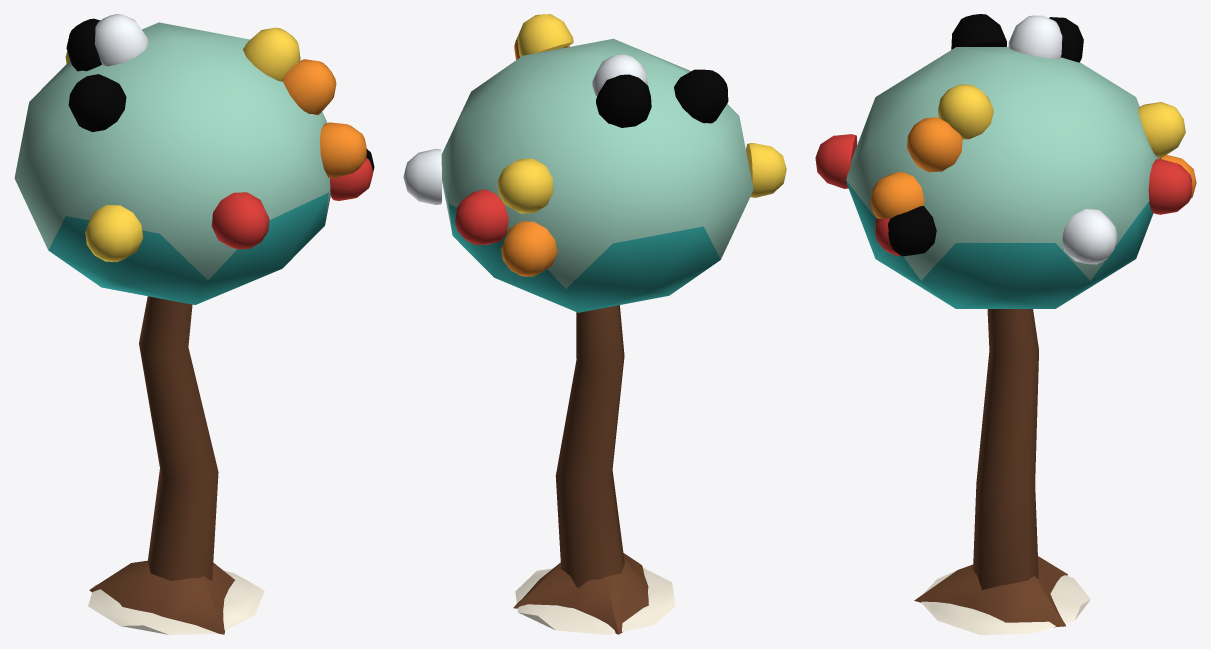
The model's file is GumdropTree.fbx.
3 renders of one model, left to right at view 1: azimuth 30°, elevation 25°; view 2: azimuth 150°, elevation 25°; view 3: azimuth 270°, elevation 25°, orthographic. The views are drawn at different scales.
Parts seen in each view (by area): view 1: GumdropTree; view 2: GumdropTree; view 3: GumdropTree.
Boxes of the visible parts, bbox=[...] form: GumdropTree: bbox=[14, 14, 374, 634]; GumdropTree: bbox=[403, 14, 786, 634]; GumdropTree: bbox=[815, 14, 1196, 634].
Bounding box in the file's own units: 1.93 × 3.68 × 2.25.
2 materials, 2 textured.
